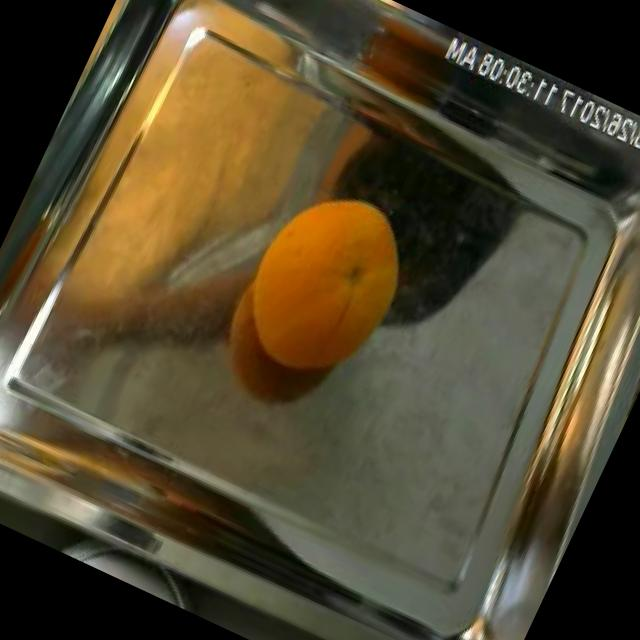Fruit: (218, 158, 446, 403), (350, 134, 530, 340)
